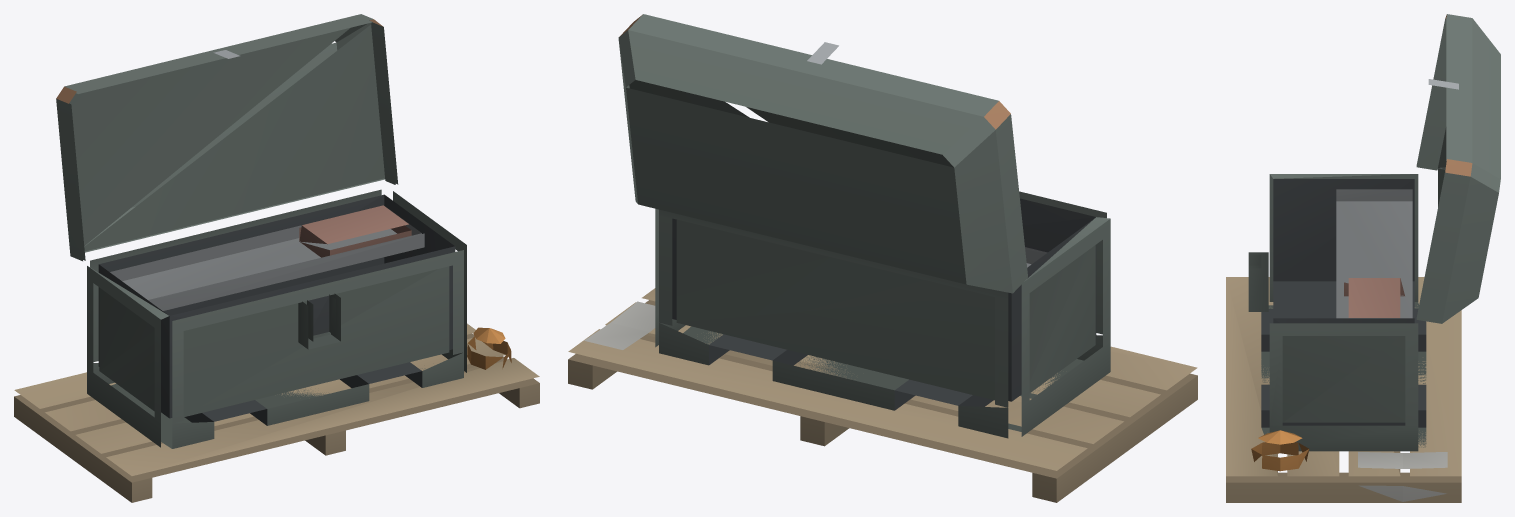
Rendered from vault.lod.glb.
3 renders of one model, left to right at view 1: azimuth 30°, elevation 25°; view 2: azimuth 150°, elevation 25°; view 3: azimuth 270°, elevation 25°, orthographic. The views are drawn at different scales.
Visible parts, largest first — view 1: vault; view 2: vault; view 3: vault.
Boxes of the visible parts, left/top/right/bottom form: vault: left=14, top=14, right=539, bottom=502; vault: left=568, top=14, right=1197, bottom=502; vault: left=1226, top=14, right=1500, bottom=502.
Size of the model in its own units: 2.01 by 1.51 by 1.17.
